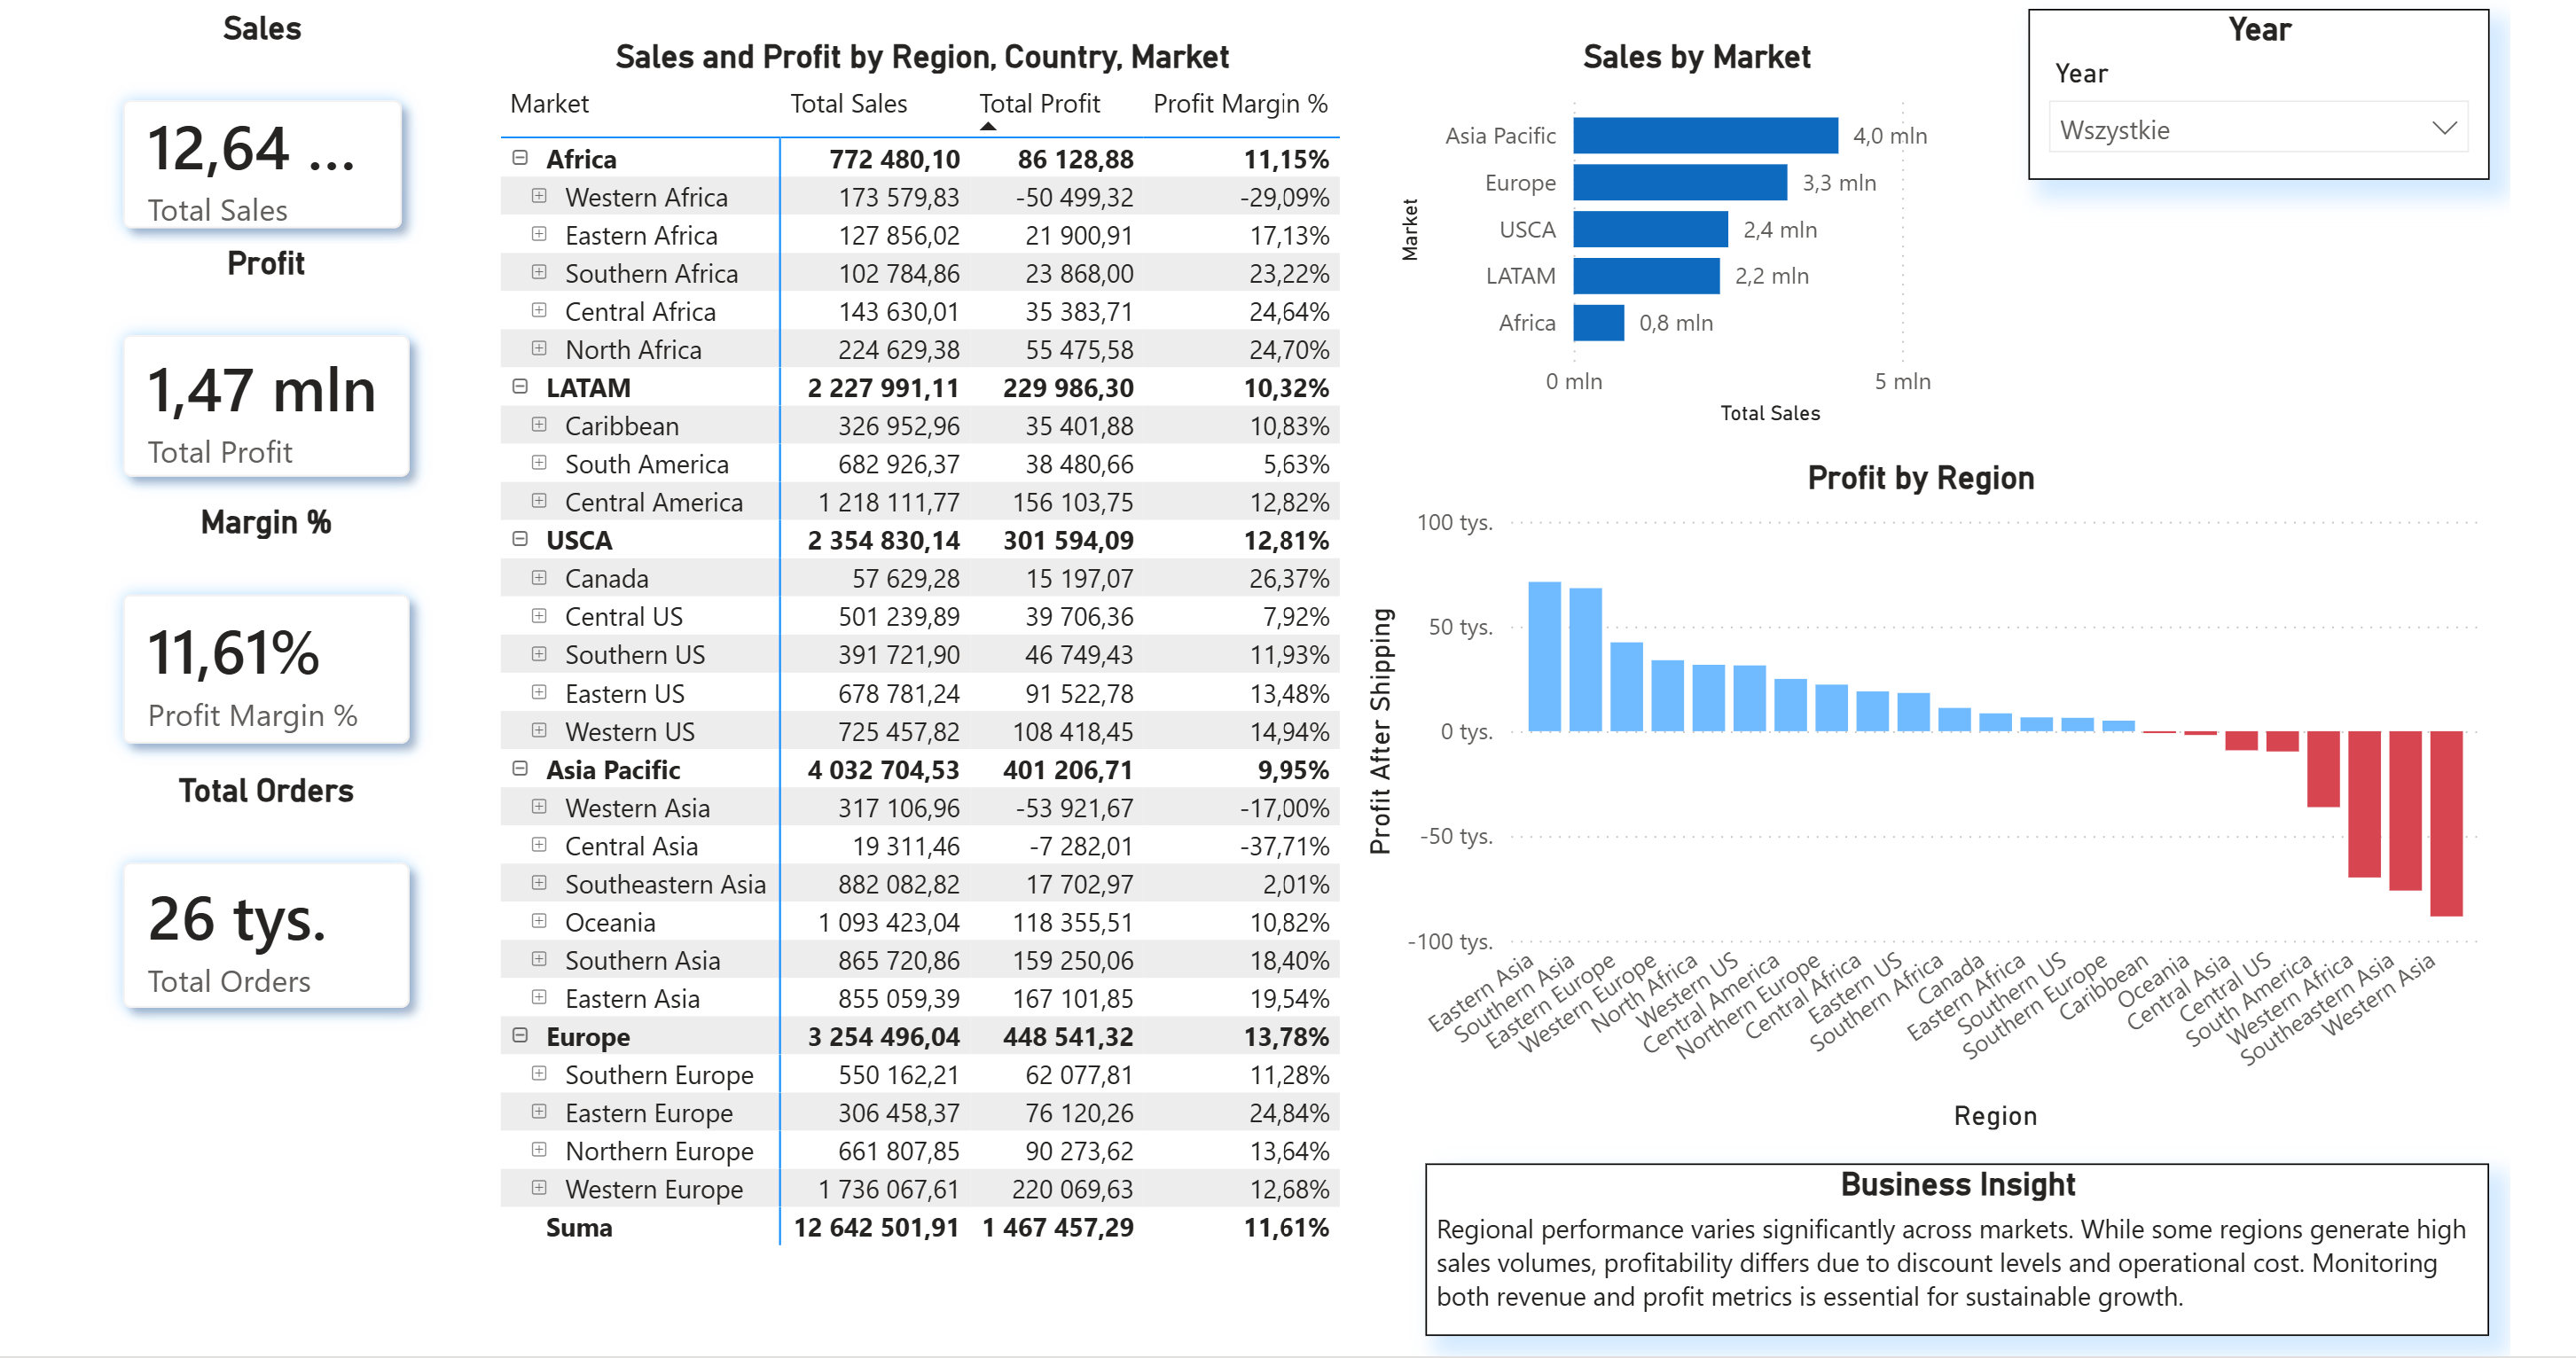

The page's visual inventory and layout, read from the dashboard file:
{"tool":"powerbi","page":{"name":"Regional & Market Performance","canvas":[1280,720],"ordinal":3},"visuals":[{"type":"cardVisual","title":"Sales","fields":{"Data":["Measures (2).Total Sales"]},"box":[0,13.7,204.5,144.1],"z":0},{"type":"cardVisual","title":"Profit","fields":{"Data":["Measures (2).Total Profit"]},"box":[0,137.2,208.6,150.9],"z":1},{"type":"cardVisual","title":"Margin %","fields":{"Data":["Measures (2).Profit Margin %"]},"box":[0,273.1,208.6,155.1],"z":2},{"type":"cardVisual","title":"Total Orders","fields":{"Data":["Measures (2).Total Orders"]},"box":[0,413,208.6,153.7],"z":3},{"type":"clusteredBarChart","title":"Sales by Market","fields":{"Category":["Address.Market"],"Y":["Measures (2).Total Sales"]},"box":[693,28.8,322.5,207.2],"z":4},{"type":"clusteredColumnChart","title":"Profit by Region","fields":{"Category":["Address.Region"],"Y":["Measures (2).Profit After Shipping"]},"box":[675.1,249.7,594.2,356.8],"z":5},{"type":"slicer","title":"Year","fields":{"Values":["DimDate.Year"]},"box":[1027.8,13.8,241.4,89.7],"z":6},{"type":"pivotTable","title":"Sales and Profit by Region, Country, Market","fields":{"Rows":["Address.Market","Address.Region","Address.Country"],"Values":["Measures (2).Total Sales","Measures (2).Total Profit","Measures (2).Profit Margin %"]},"box":[222.3,28.8,452.8,680.6],"z":7},{"type":"textbox","title":"Business Insight","box":[712.2,618.9,557.1,90.6],"z":8}]}

Visuals, with their boxes on the page's 1280x720 design canvas (x1, y1, x2, y2). These are canvas units, not pixel positions in the 2576x1358 screenshot, which may show the page scaled, cropped or inside an application window:
"Sales" cardVisual: 0 14 204 158
"Profit" cardVisual: 0 137 209 288
"Margin %" cardVisual: 0 273 209 428
"Total Orders" cardVisual: 0 413 209 567
"Sales by Market" clusteredBarChart: 693 29 1016 236
"Profit by Region" clusteredColumnChart: 675 250 1269 606
"Year" slicer: 1028 14 1269 104
"Sales and Profit by Region, Country, Market" pivotTable: 222 29 675 709
"Business Insight" textbox: 712 619 1269 710
